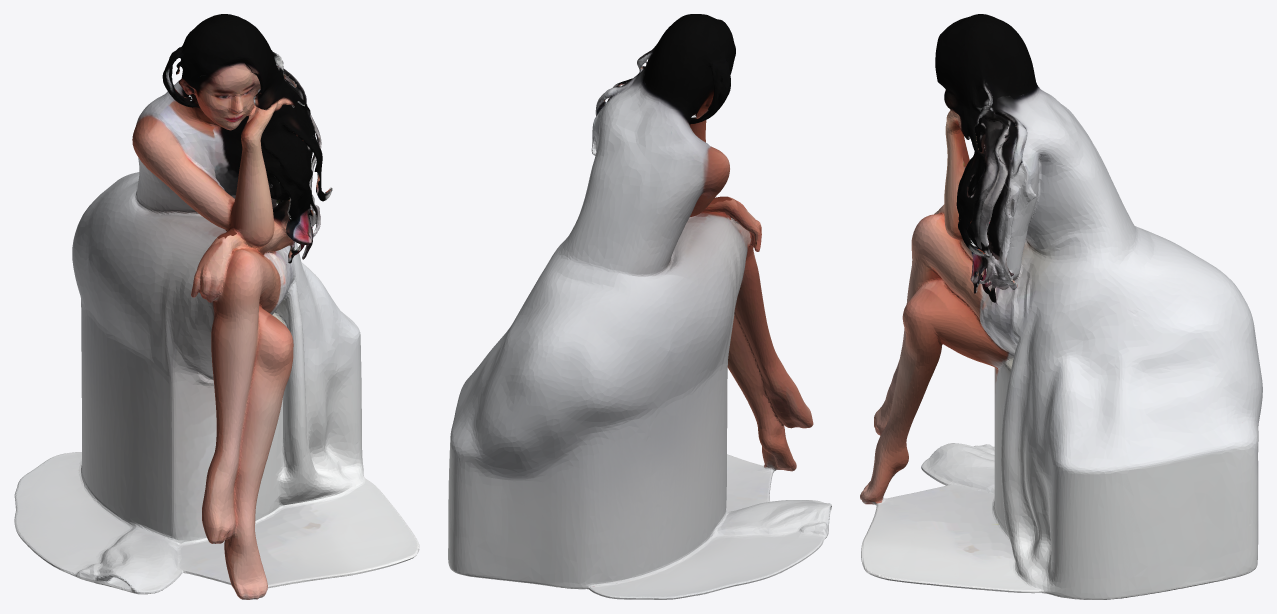
The picture shows the model from 3 angles, left to right: view 1: azimuth 30°, elevation 25°; view 2: azimuth 150°, elevation 25°; view 3: azimuth 270°, elevation 25°; orthographic projection. The views are drawn at different scales.
Visible parts, largest first — view 1: temp_mesh.ply; view 2: temp_mesh.ply; view 3: temp_mesh.ply.
Part boxes in pixels (box(x1,y1,x2,y2)): temp_mesh.ply: box(14, 14, 419, 599); temp_mesh.ply: box(448, 14, 831, 599); temp_mesh.ply: box(860, 14, 1262, 599).
Bounding box in the file's own units: 1.32 × 1.97 × 1.45.
1 material, 1 textured.
